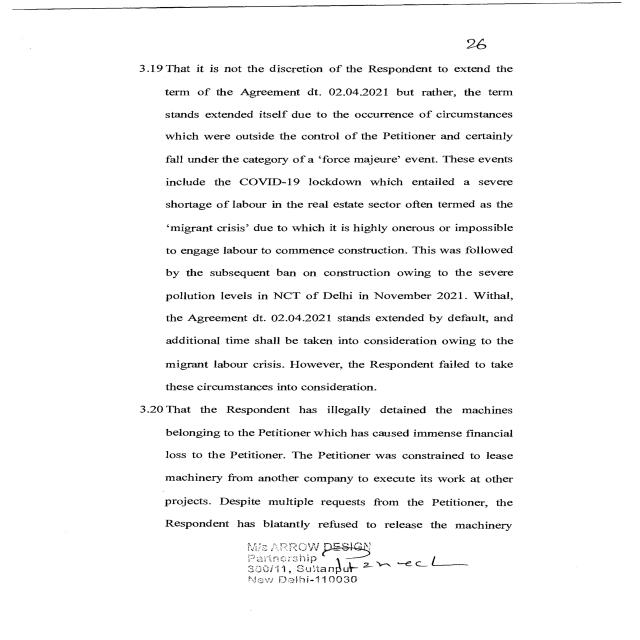page-number: (417, 10, 640, 61)
